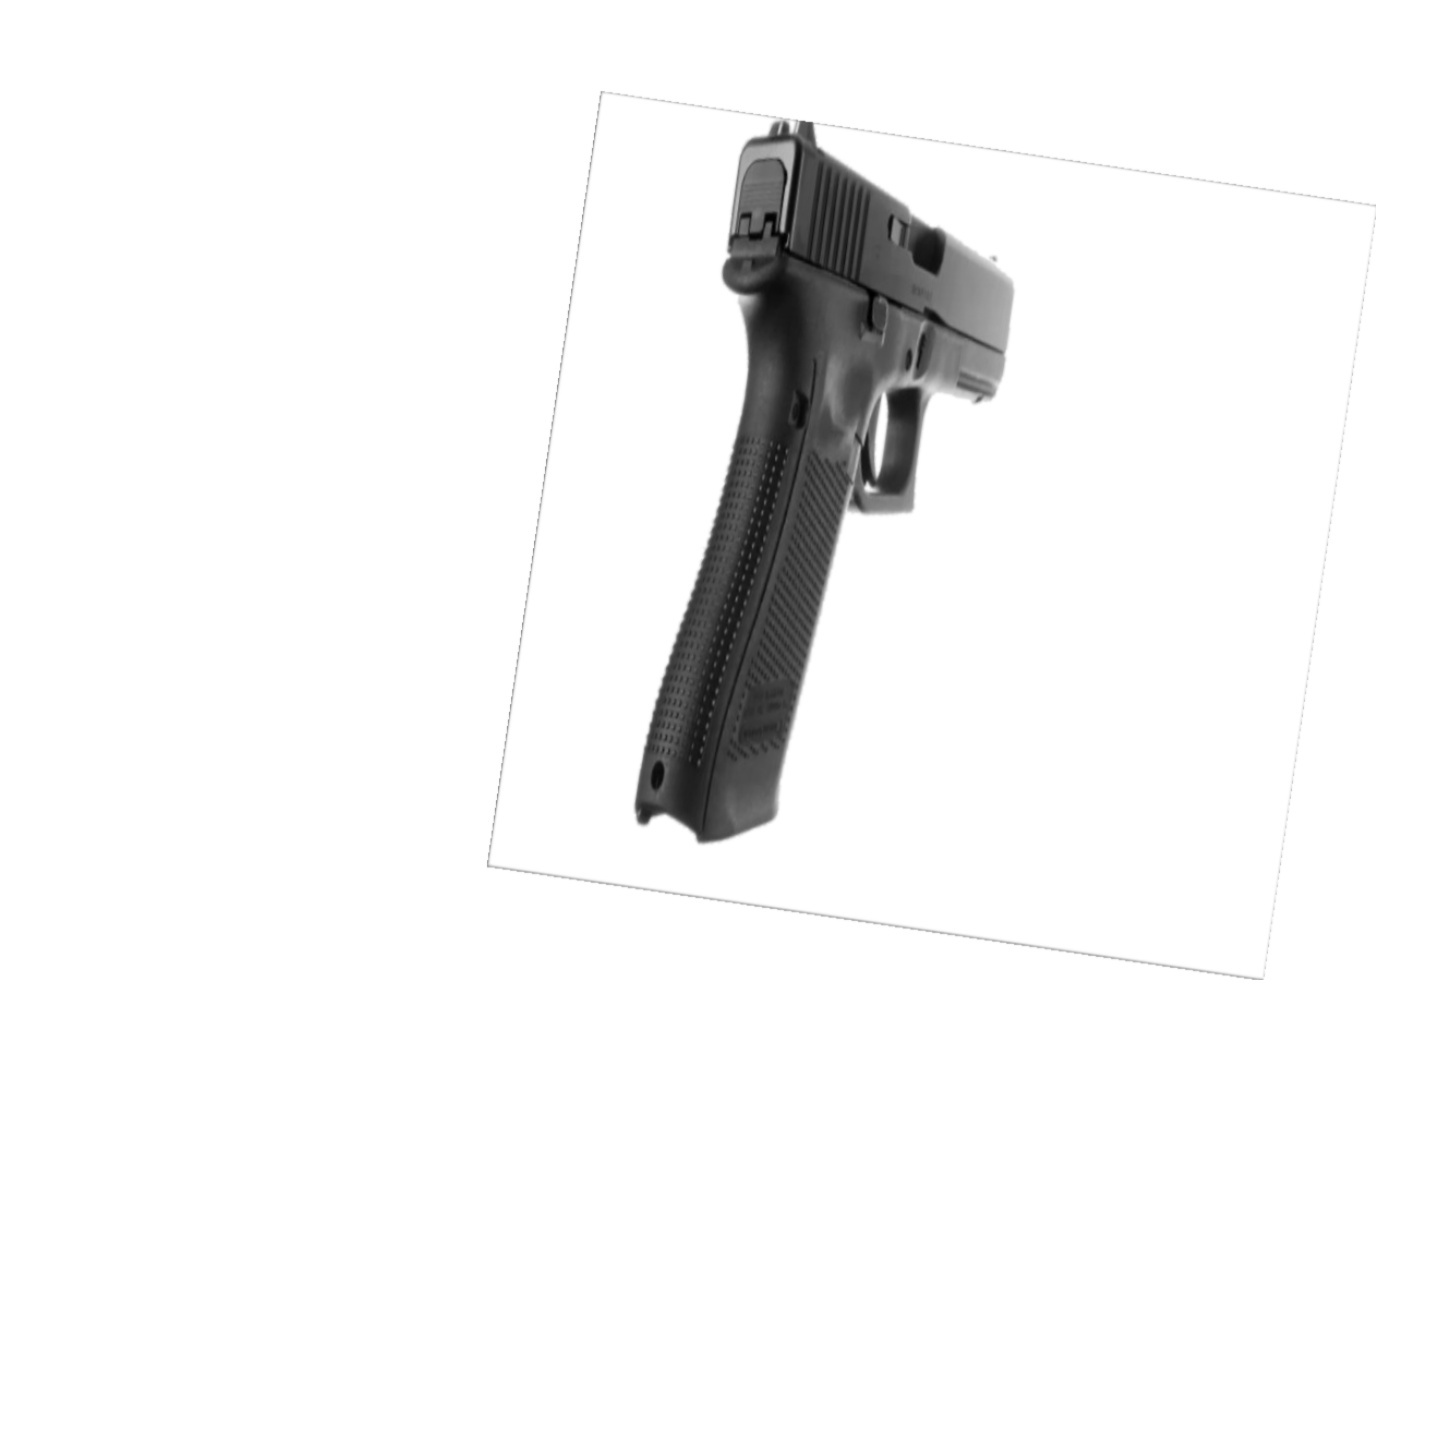gun: (623, 111, 1026, 859)
